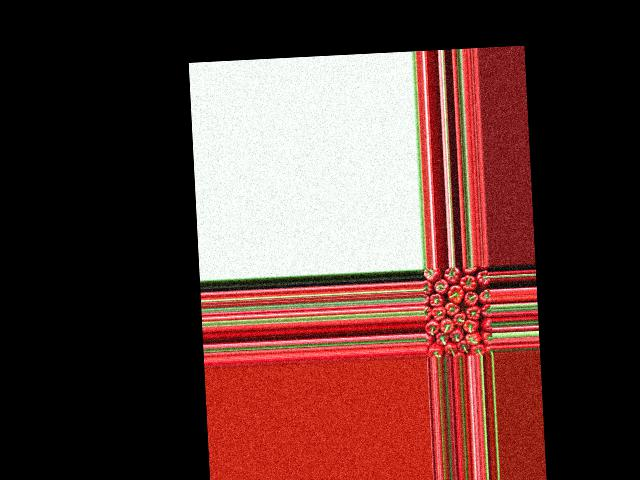bell_pepper: (427, 342, 442, 357)
